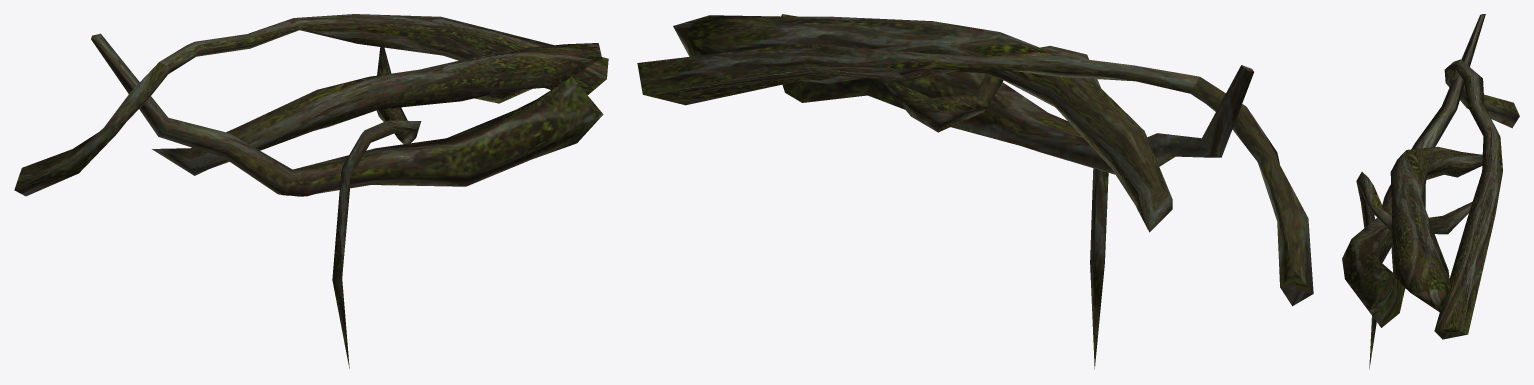
Rendered from yw_museyulin_shugen01.FBX.
The picture shows the model from 3 angles, left to right: view 1: azimuth 30°, elevation 25°; view 2: azimuth 150°, elevation 25°; view 3: azimuth 270°, elevation 25°; orthographic projection. The views are drawn at different scales.
Visible parts, largest first — view 1: yw_museyulin_shugen01; view 2: yw_museyulin_shugen01; view 3: yw_museyulin_shugen01.
Boxes of the visible parts, x1=… form: yw_museyulin_shugen01: x1=14, y1=14, x2=608, y2=368; yw_museyulin_shugen01: x1=637, y1=14, x2=1313, y2=369; yw_museyulin_shugen01: x1=1342, y1=14, x2=1519, y2=369.
Bounding box in the file's own units: 758 × 429 × 247.
